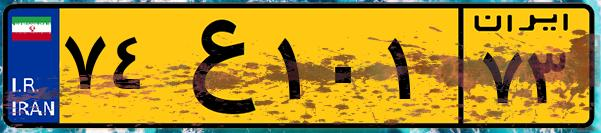0: (330, 28, 385, 110)
1: (270, 28, 330, 110), (385, 28, 445, 110)
3: (525, 38, 570, 115)
4: (110, 28, 158, 98)
7: (57, 26, 110, 100), (475, 38, 525, 113)
ع: (158, 12, 270, 120)
